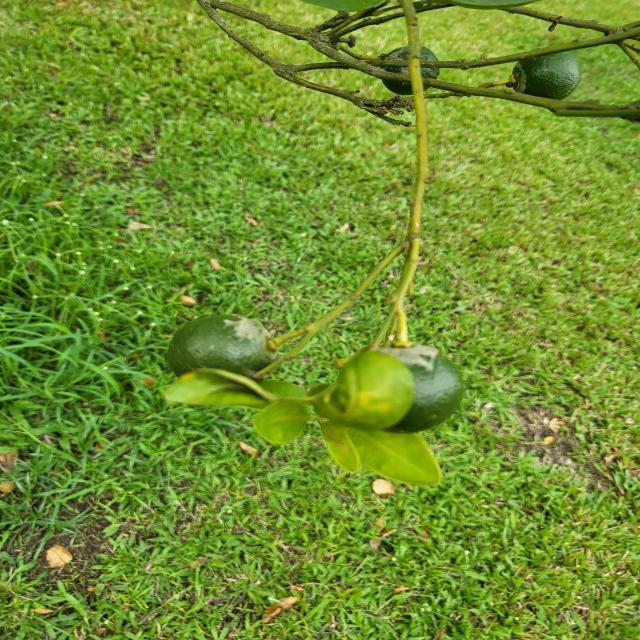thrips: (334, 331, 468, 436), (166, 305, 276, 400), (505, 46, 587, 107)
